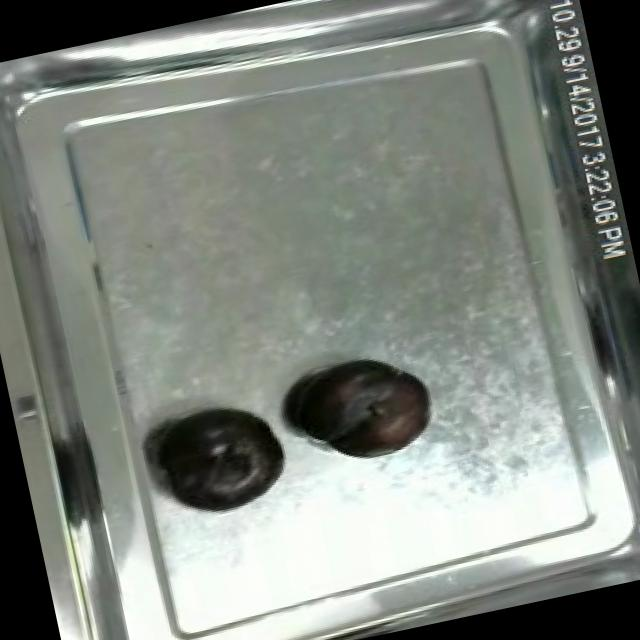Fruit: (278, 339, 444, 472), (148, 390, 297, 526)
